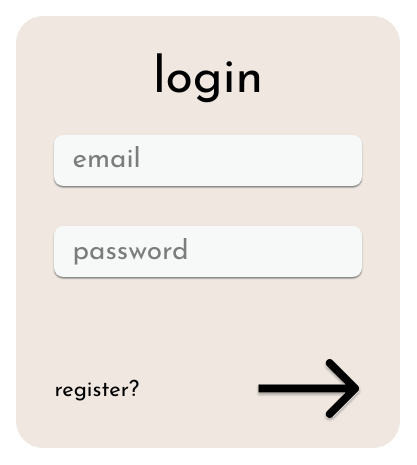
Scenario: Login › shows error when only email is filled
Type "user@example.com" into the field with placeholder "email". click: (208, 160)
box: x1=54 y1=134 x2=362 y2=186
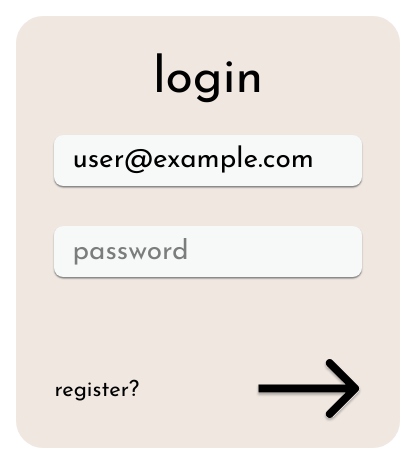
Click the button named "submit". click: (309, 390)
box: x1=256 y1=358 x2=362 y2=422
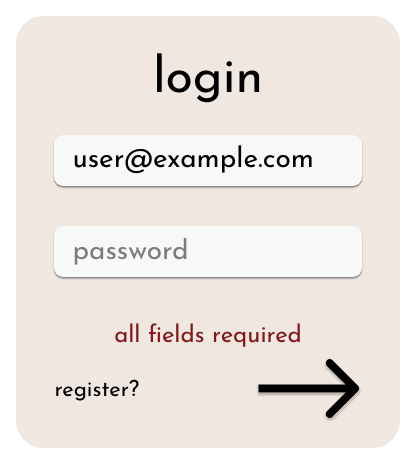
Expected: the text "all fields required" is shown, x1=114 y1=318 x2=302 y2=350
